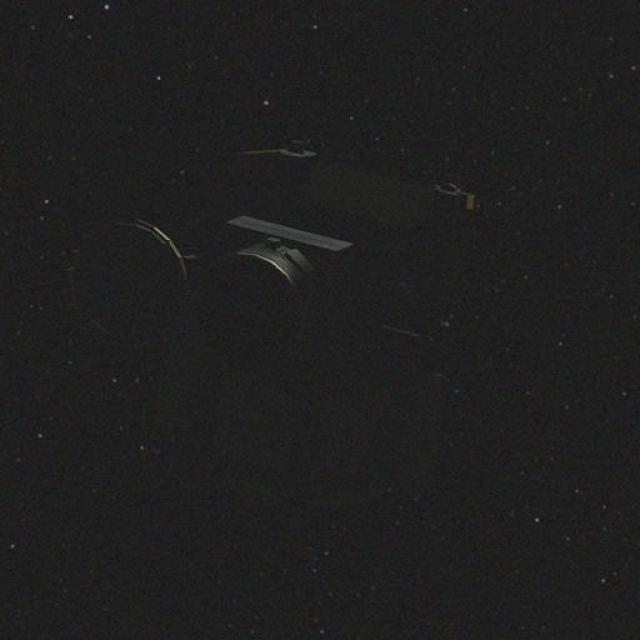cheops: (81, 117, 522, 352)
